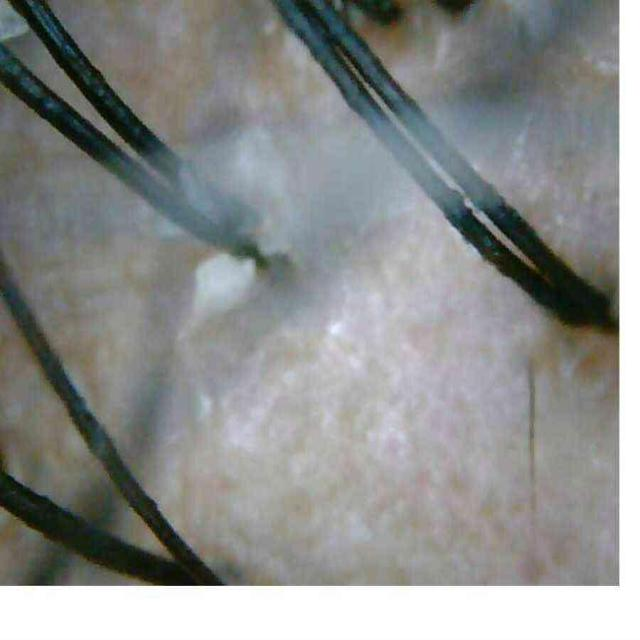d: (178, 253, 258, 341), (0, 0, 29, 41)
